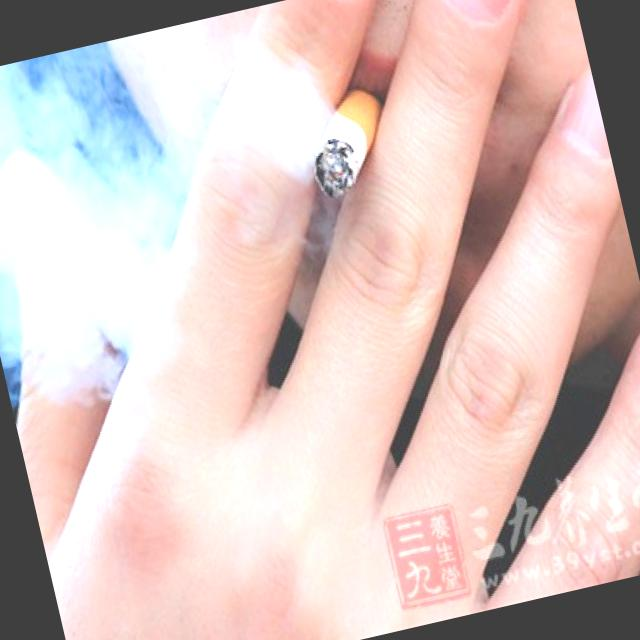cigarette: (296, 80, 398, 199)
